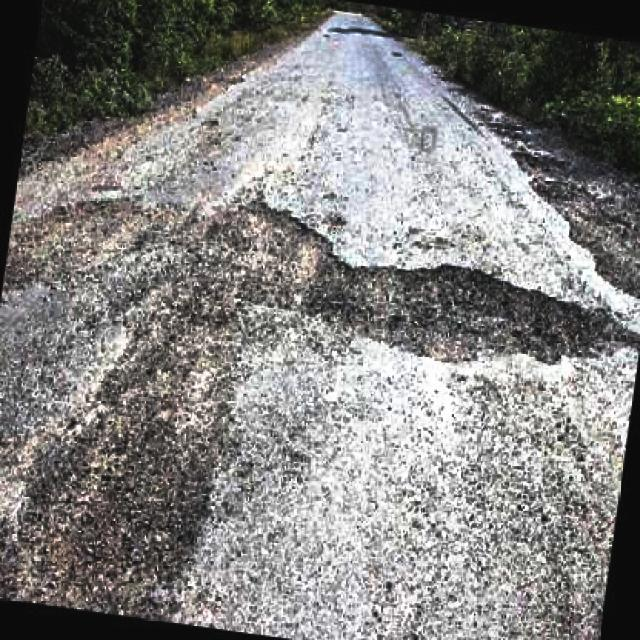pothole: (20, 331, 229, 623), (0, 188, 363, 317), (326, 246, 622, 369)
